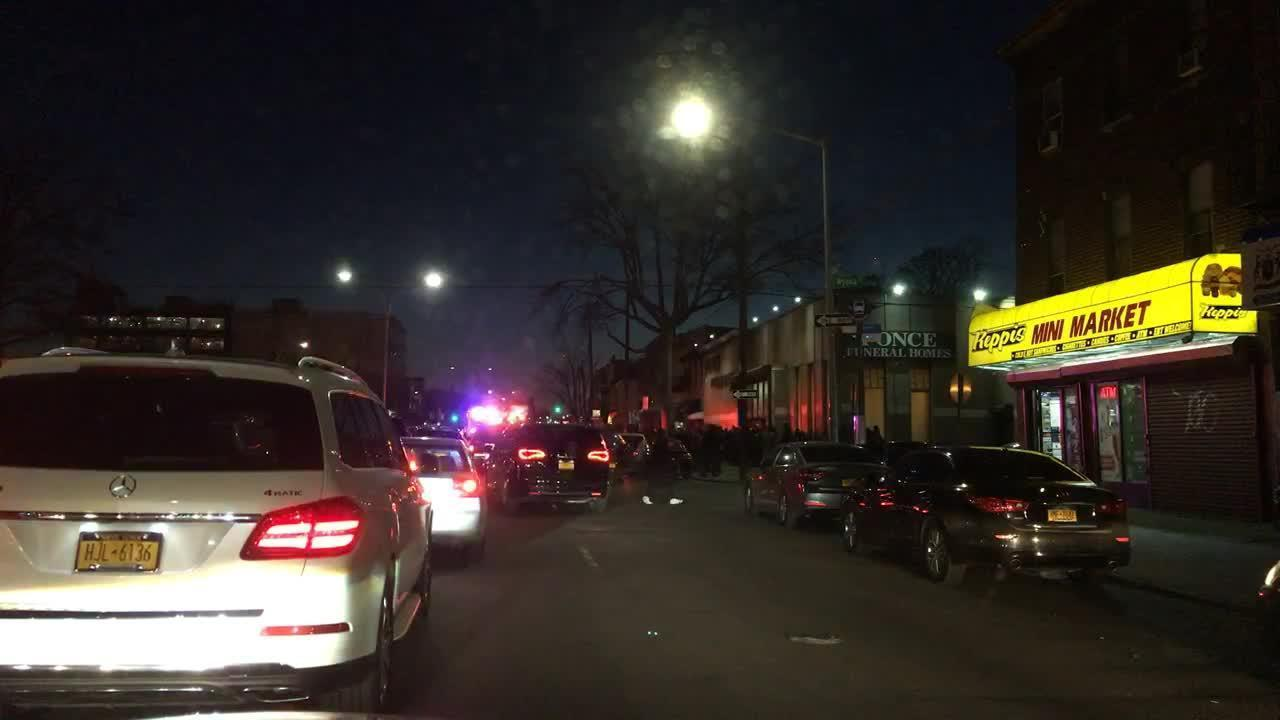Mercedes: (102, 469, 144, 506)
